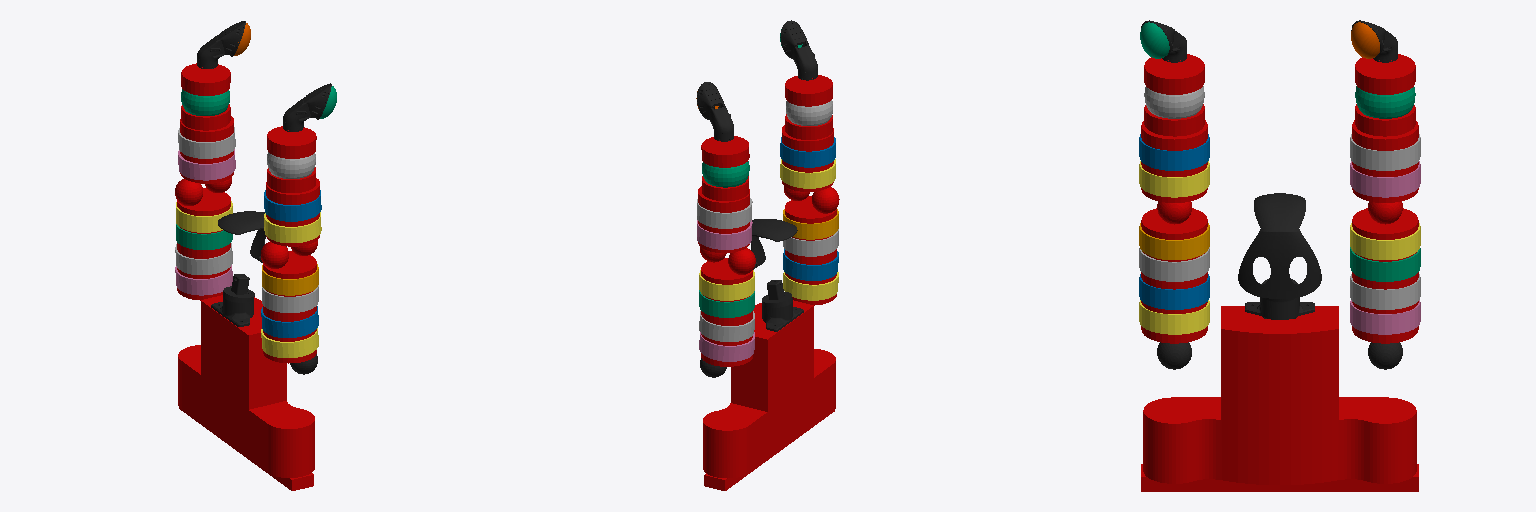
--- Render facts (derived) ---
Views: 3 orthographic renders of the robot side by side, from view 1: azimuth 30°, elevation 25°; view 2: azimuth 150°, elevation 25°; view 3: azimuth 270°, elevation 25°.
Model punyo with 44 links and 43 joints (14 revolute, 29 fixed), rooted at torso, posed all joints at 0 but 14 set to mid-range because 0 is outside their limits (j2s7s300_joint_1_l = 3.14, j2s7s300_joint_2_l = 3.14, j2s7s300_joint_3_l = 3.14, j2s7s300_joint_4_l = 3.14, j2s7s300_joint_5_l = 3.14, j2s7s300_joint_6_l = 3.14, +8 more).
Links seen in each view (by area): view 1: torso, head, floatie_1.0_on_link_6_l, floatie_1.0_on_link_6_r, j2s7s300_link_3_r, j2s7s300_link_3_l, paw_link_r, paw_link_l, j2s7s300_link_5_r, j2s7s300_link_5_l, floatie_2.0b_on_link_4_l, floatie_2.0b_on_link_4_r (+14 smaller); view 2: torso, head, floatie_1.0_on_link_6_l, floatie_1.0_on_link_6_r, j2s7s300_link_3_l, j2s7s300_link_3_r, paw_link_r, paw_link_l, j2s7s300_link_5_l, j2s7s300_link_5_r, floatie_2.0b_on_link_4_r, floatie_2.0b_on_link_3_l (+14 smaller); view 3: torso, head, floatie_1.0_on_link_6_r, floatie_1.0_on_link_6_l, j2s7s300_link_3_r, j2s7s300_link_3_l, j2s7s300_link_5_r, j2s7s300_link_5_l, floatie_2.0b_on_link_2_l, floatie_2.0b_on_link_2_r, floatie_2.0a_on_link_2_l, paw_link_l (+16 smaller).
Link boxes in pixels (x1=…): torso: x1=178, y1=295, x2=314, y2=490; head: x1=211, y1=211, x2=286, y2=326; floatie_1.0_on_link_6_l: x1=181, y1=63, x2=230, y2=115; floatie_1.0_on_link_6_r: x1=267, y1=126, x2=316, y2=178; j2s7s300_link_3_r: x1=263, y1=251, x2=316, y2=363; j2s7s300_link_3_l: x1=177, y1=188, x2=230, y2=300; paw_link_r: x1=283, y1=83, x2=336, y2=131; paw_link_l: x1=197, y1=21, x2=250, y2=68; j2s7s300_link_5_r: x1=266, y1=178, x2=319, y2=246; j2s7s300_link_5_l: x1=180, y1=116, x2=233, y2=183; floatie_2.0b_on_link_4_l: x1=178, y1=127, x2=235, y2=158; floatie_2.0b_on_link_4_r: x1=264, y1=190, x2=321, y2=221; torso: x1=703, y1=300, x2=835, y2=490; head: x1=751, y1=219, x2=803, y2=331; floatie_1.0_on_link_6_l: x1=701, y1=136, x2=749, y2=187; floatie_1.0_on_link_6_r: x1=785, y1=75, x2=832, y2=125; j2s7s300_link_3_l: x1=701, y1=258, x2=752, y2=366; j2s7s300_link_3_r: x1=785, y1=196, x2=836, y2=305; paw_link_r: x1=780, y1=20, x2=817, y2=80; paw_link_l: x1=696, y1=82, x2=733, y2=141; j2s7s300_link_5_l: x1=698, y1=186, x2=749, y2=252; j2s7s300_link_5_r: x1=782, y1=125, x2=833, y2=191; floatie_2.0b_on_link_4_r: x1=780, y1=137, x2=835, y2=167; floatie_2.0b_on_link_3_l: x1=699, y1=270, x2=754, y2=300; torso: x1=1141, y1=306, x2=1418, y2=491; head: x1=1238, y1=193, x2=1321, y2=319; floatie_1.0_on_link_6_r: x1=1144, y1=54, x2=1204, y2=118; floatie_1.0_on_link_6_l: x1=1355, y1=54, x2=1415, y2=118; j2s7s300_link_3_r: x1=1141, y1=208, x2=1207, y2=343; j2s7s300_link_3_l: x1=1352, y1=208, x2=1418, y2=343; j2s7s300_link_5_r: x1=1141, y1=120, x2=1207, y2=202; j2s7s300_link_5_l: x1=1352, y1=120, x2=1418, y2=202; floatie_2.0b_on_link_2_l: x1=1350, y1=274, x2=1420, y2=309; floatie_2.0b_on_link_2_r: x1=1139, y1=274, x2=1209, y2=309; floatie_2.0a_on_link_2_l: x1=1350, y1=300, x2=1420, y2=334; paw_link_l: x1=1351, y1=20, x2=1397, y2=62.
Size in the robot's own frame: 0.2367 by 0.72 by 1.37 metres.
Meshes: 18 distinct files referenced, 11 mesh visuals loaded (8 OBJ); not drawn: 27 (reference not matched to a file when rendering).

URDF robot description (punyo):
<?xml version="1.0"?>
<!--
This is a URDF file for the Punyo robot.
The robot has a torso and two arms. Each arm is covered by six floatie 2.0s and one floatie 1.0,
and the end-effector is a bubble paw. This is intended as
a high-fidelity model of the robot.

The continuous joints are limited by hard mechanical stops
at the limits below. The revolute joint are not mechanically
limited, thus using the manufacturer's limits.
The limits are duplicated from models/robot/gen_punyo_jaco_arm.py,
thus, they should be kept in sync.
-->
<robot xmlns:drake='http://drake.mit.edu' name="punyo">
  <link name="head">
    <visual name='neck_visual'>
      <origin rpy="0 0 -1.57" xyz="-0.06 0 0.47"/>
      <geometry>
        <mesh filename="meshes/A4_Punyo_Neck.obj"/>
      </geometry>
      <material>
        <color rgba="0.1788232 0.1788232 0.1788232 1"/>
      </material>
    </visual>
    <visual name='head_white_visual'>
      <origin rpy="0 0 -1.57" xyz="-0.06 0 0.47"/>
      <geometry>
        <mesh filename="meshes/A4_Punyo_Head_white.obj"/>
      </geometry>
      <material>
        <color rgba="0.812 0.039 0.039 1"/>
      </material>
    </visual>
    <visual name='head_black_visual'>
      <origin rpy="0 0 -1.57" xyz="-0.06 0 0.47"/>
      <geometry>
        <mesh filename="meshes/A4_Punyo_Head_black.obj"/>
      </geometry>
      <material>
        <color rgba="0.1788232 0.1788232 0.1788232 1"/>
      </material>
    </visual>
    <collision name='neck_collision'>
      <origin rpy="0 0 0" xyz="-0.03 0 0.49"/>
      <geometry>
        <cylinder length="0.05" radius="0.055"/>
      </geometry>
      <drake:proximity_properties>
        <drake:mesh_resolution_hint value="0.04"/>
        <drake:rigid_hydroelastic/>
        <drake:hunt_crossley_dissipation value="5"/>
        <drake:mu_static value="0.5"/>
      </drake:proximity_properties>
    </collision>
    <collision name='head_collision'>
      <origin rpy="0 0 0" xyz="0 0 0.655"/>
      <geometry>
        <sphere radius="0.16"/>
      </geometry>
      <drake:proximity_properties>
        <drake:mesh_resolution_hint value="0.04"/>
        <drake:rigid_hydroelastic/>
        <drake:hunt_crossley_dissipation value="5"/>
        <drake:mu_static value="0.5"/>
      </drake:proximity_properties>
    </collision>
  </link>
  <joint name="head_torso_link" type="fixed">
    <parent link="torso"/>
    <child link="head"/>
    <axis xyz="0 0 0"/>
    <limit effort="2000" lower="0" upper="0" velocity="1"/>
    <origin rpy="0 0 0" xyz="0 0 0"/>
    <dynamics damping="0.0" friction="0.0"/>
  </joint>
  <link name="torso">
    <visual name='chest_left_visual'>
      <geometry>
        <mesh filename="meshes/MA-081-PT-0003_chest_left.obj"/>
      </geometry>
      <material>
        <color rgba="0.812 0.039 0.039 1"/>
      </material>
    </visual>
    <visual name='chest_right_visual'>
      <geometry>
        <mesh filename="meshes/MA-081-PT-0003_chest_right.obj"/>
      </geometry>
      <material>
        <color rgba="0.812 0.039 0.039 1"/>
      </material>
    </visual>
    <visual name='chest_middle_visual'>
      <geometry>
        <mesh filename="meshes/MA-081-PT-0003_chest_middle.obj"/>
      </geometry>
      <material>
        <color rgba="0.812 0.039 0.039 1"/>
      </material>
    </visual>
    <!-- Add modularized collision geoms for the chest. -->
    <collision name='chest_left_collision'>
      <geometry>
        <mesh filename="meshes/MA-081-PT-0003_chest_left.obj"/>
      </geometry>
    </collision>
    <collision name='chest_middle_collision'>
      <geometry>
        <mesh filename="meshes/MA-081-PT-0003_chest_middle.vtk"/>
      </geometry>
      <drake:proximity_properties>
        <drake:mesh_resolution_hint value="0.04"/>
        <drake:rigid_hydroelastic/>
        <drake:hunt_crossley_dissipation value="5"/>
        <drake:mu_static value="0.5"/>
      </drake:proximity_properties>
    </collision>
    <collision name='chest_right_collision'>
      <geometry>
        <mesh filename="meshes/MA-081-PT-0003_chest_right.obj"/>
      </geometry>
    </collision>
  </link>
  <link name="j2s7s300_link_base_l">
    <visual>
      <geometry>
        <mesh filename="meshes/base.obj"/>
      </geometry>
      <material>
        <color rgba="0.1788232 0.1788232 0.1788232 1"/>
      </material>
    </visual>
    <collision>
      <geometry>
        <mesh filename="meshes/base.obj"/>
      </geometry>
    </collision>
    <inertial>
      <mass value="0.965"/>
      <origin rpy="0 0 0" xyz="0 0 0.1255"/>
      <inertia ixx="0.000951270861568" ixy="0" ixz="0" iyy="0.000951270861568" iyz="0" izz="0.000374272"/>
    </inertial>
  </link>
  <joint name="j2s7s300_joint_base_l" type="fixed">
    <parent link="torso"/>
    <child link="j2s7s300_link_base_l"/>
    <axis xyz="0 0 0"/>
    <limit effort="2000" lower="0" upper="0" velocity="1"/>
    <origin rpy="0 0 1.5707963267948966" xyz="0 0.27 0.114"/>
    <dynamics damping="0.0" friction="0.0"/>
  </joint>
  <link name="j2s7s300_link_1_l">
    <visual>
      <geometry>
        <mesh filename="meshes/shoulder.obj"/>
      </geometry>
      <material>
        <color rgba="0.1788232 0.1788232 0.1788232 1"/>
      </material>
    </visual>
    <visual>
      <geometry>
        <mesh filename="meshes/ring_big.obj"/>
      </geometry>
      <material>
        <color rgba="0.1788232 0.1788232 0.1788232 1"/>
      </material>
    </visual>
    <collision>
      <geometry>
        <mesh filename="meshes/shoulder.obj"/>
      </geometry>
    </collision>
    <inertial>
      <mass value="0.790"/>
      <origin xyz="0 -0.002 -0.0605"/>
      <inertia ixx="0.00152031725204" ixy="0" ixz="0" iyy="0.00152031725204" iyz="0" izz="0.00059816"/>
    </inertial>
  </link>
  <joint name="j2s7s300_joint_1_l" type="revolute">
    <parent link="j2s7s300_link_base_l"/>
    <child link="j2s7s300_link_1_l"/>
    <axis xyz="0 0 1"/>
    <limit effort="110" lower="0.18" upper="6.10" velocity="0.63"/>
    <origin rpy="0 3.14159265359 0" xyz="0 0 0.15675"/>
    <dynamics damping="18.0" friction="0.0"/>
  </joint>
  <transmission name="j2s7s300_joint_1_l_trans">
    <type>transmission_interface/SimpleTransmission</type>
    <joint name="j2s7s300_joint_1_l">
      <hardwareInterface>EffortJointInterface</hardwareInterface>
    </joint>
    <actuator name="j2s7s300_joint_1_l_actuator">
      <hardwareInterface>EffortJointInterface</hardwareInterface>
    </actuator>
  </transmission>
  <link name="sensor_cover_0_l">
    <visual>
      <geometry>
        <sphere radius="0.045"/>
      </geometry>
      <material>
        <color rgba="0.1788232 0.1788232 0.1788232 1"/>
      </material>
    </visual>
    <inertial>
      <mass value="0.190"/>
      <origin xyz="0 0 0"/>
      <inertia ixx="0.000154" ixy="0" ixz="0" iyy="0.000154" iyz="0" izz="0.000154"/>
    </inertial>
  </link>
  <joint name='sensor_cover_0_l_on_link_2_l' type='fixed'>
    <parent link='j2s7s300_link_2_l'/>
    <child link='sensor_cover_0_l'/>
    <origin xyz="0 -0.01 -0.05" rpy="0 0 0"/>
  </joint>
  <link name="j2s7s300_link_2_l">
    <visual>
      <geometry>
        <mesh filename="meshes/arm_half_1.obj"/>
      </geometry>
      <material>
        <color rgba="0.1788232 0.1788232 0.1788232 1"/>
      </material>
    </visual>
    <visual>
      <geometry>
        <mesh filename="meshes/ring_big.obj"/>
      </geometry>
      <material>
        <color rgba="0.1788232 0.1788232 0.1788232 1"/>
      </material>
    </visual>
    <collision>
      <geometry>
        <mesh filename="meshes/arm_half_1.obj"/>
      </geometry>
    </collision>
    <inertial>
      <mass value="0.876"/>
      <origin xyz="0 -0.106 0"/>
      <inertia ixx="0.00247073761701" ixy="0" ixz="0" iyy="0.000380115" iyz="0" izz="0.00247073761701"/>
    </inertial>
  </link>
  <joint name='j2s7s300_link_2_l_floatie_2.0a_on_link_2_l' type='fixed'>
    <parent link='j2s7s300_link_2_l'/>
    <child link='floatie_2.0a_on_link_2_l'/>
    <origin xyz="0 -0.10 0" rpy="1.507 0 0"/>
  </joint>
  <link name="floatie_2.0a_on_link_2_l">
    <!-- Add two floatie 2.0s on Left Link 2. -->
    <inertial>
      <mass value="0.065"/>
    </inertial>
    <visual name='floatie_2.0a_on_link_2_l_visual'>
      <origin xyz="0 0 0" rpy="0 0 0"/>
      <geometry>
        <cylinder length="0.055" radius="0.09"/>
      </geometry>
    </visual>
    <collision name='floatie_2.0a_on_link_2_l_collision'>
      <origin xyz="0 0 0" rpy="0 0 0"/>
      <geometry>
        <cylinder length="0.055" radius="0.09"/>
      </geometry>
      <drake:proximity_properties>
        <drake:mesh_resolution_hint value="0.04"/>
        <drake:compliant_hydroelastic/>
        <drake:hydroelastic_modulus value="1e6"/>
        <drake:hunt_crossley_dissipation value="5"/>
        <!-- Arbitrary guess at bubble friction properties -->
        <drake:mu_static value="0.8"/>
      </drake:proximity_properties>
    </collision>
  </link>
  <joint name='j2s7s300_link_2_l_floatie_2.0b_on_link_2_l' type='fixed'>
    <parent link='j2s7s300_link_2_l'/>
    <child link='floatie_2.0b_on_link_2_l'/>
    <origin xyz="0 -0.17 0" rpy="1.507 0 0"/>
  </joint>
  <link name="floatie_2.0b_on_link_2_l">
    <inertial>
      <mass value="0.065"/>
    </inertial>
    <visual name='floatie_2.0b_on_link_2_l_visual'>
      <origin xyz="0 0 0" rpy="0 0 0"/>
      <geometry>
        <cylinder length="0.055" radius="0.09"/>
      </geometry>
    </visual>
    <collision name='floatie_2.0b_on_link_2_l_collision'>
      <origin xyz="0 0 0" rpy="0 0 0"/>
      <geometry>
        <cylinder length="0.055" radius="0.09"/>
      </geometry>
      <drake:proximity_properties>
        <drake:mesh_resolution_hint value="0.04"/>
        <drake:compliant_hydroelastic/>
        <drake:hydroelastic_modulus value="1e6"/>
        <drake:hunt_crossley_dissipation value="5"/>
        <!-- Arbitrary guess at bubble friction properties -->
        <drake:mu_static value="0.8"/>
      </drake:proximity_properties>
    </collision>
  </link>
  <joint name="j2s7s300_joint_2_l" type="revolute">
    <parent link="j2s7s300_link_1_l"/>
    <child link="j2s7s300_link_2_l"/>
    <axis xyz="0 0 1"/>
    <limit effort="100" lower="0.523598775598" upper="5.75958653158" velocity="0.63"/>
    <origin rpy="-1.57079632679 0 3.14159265359" xyz="0 0.0016 -0.11875"/>
    <dynamics damping="18.0" friction="0.0"/>
  </joint>
  <transmission name="j2s7s300_joint_2_l_trans">
    <type>transmission_interface/SimpleTransmission</type>
    <joint name="j2s7s300_joint_2_l">
      <hardwareInterface>EffortJointInterface</hardwareInterface>
    </joint>
    <actuator name="j2s7s300_joint_2_l_actuator">
      <hardwareInterface>EffortJointInterface</hardwareInterface>
    </actuator>
  </transmission>
  <link name="sensor_cover_1_l">
    <visual>
      <geometry>
        <sphere radius="0.045"/>
      </geometry>
      <material>
        <color rgba="0.812 0.039 0.039 1"/>
      </material>
    </visual>
    <inertial>
      <mass value="0.190"/>
      <origin xyz="0 0 0"/>
      <inertia ixx="0.000154" ixy="0" ixz="0" iyy="0.000154" iyz="0" izz="0.000154"/>
    </inertial>
  </link>
  <joint name='sensor_cover_1_l_on_link_3_l' type='fixed'>
    <parent link='j2s7s300_link_3_l'/>
    <child link='sensor_cover_1_l'/>
    <origin xyz="0 0.055 -0.195" rpy="0 0 0"/>
  </joint>
  <link name="j2s7s300_link_3_l">
    <visual>
      <geometry>
        <cylinder length="0.31" radius="0.085"/>
      </geometry>
      <material>
        <color rgba="0.812 0.039 0.039 1"/>
      </material>
    </visual>

    <visual>
      <geometry>
        <mesh filename="meshes/arm_half_2.obj"/>
      </geometry>
      <material>
        <color rgba="0.812 0.039 0.039 1"/>
      </material>
    </visual>
    <visual>
      <geometry>
        <mesh filename="meshes/ring_big.obj"/>
      </geometry>
      <material>
        <color rgba="0.627451 0.627451 0.627451 1"/>
      </material>
    </visual>
    <collision>
      <geometry>
        <mesh filename="meshes/arm_half_2.obj"/>
      </geometry>
    </collision>
    <inertial>
      <mass value="0.876"/>
      <origin xyz="0 0 -0.106"/>
      <inertia ixx="0.00247073761701" ixy="0" ixz="0" iyy="0.00247073761701" iyz="0" izz="0.000380115"/>
    </inertial>
  </link>
  <joint name='j2s7s300_link_3_l_floatie_2.0a_on_link_3_l' type='fixed'>
    <parent link='j2s7s300_link_3_l'/>
    <child link='floatie_2.0a_on_link_3_l'/>
    <origin xyz="0 0 -0.049" rpy="0 0 0"/>
  </joint>
  <link name="floatie_2.0a_on_link_3_l">
    <!-- Add two floatie 2.0s on Left Link 3. -->
    <inertial>
      <mass value="0.065"/>
    </inertial>
    <visual name='floatie_2.0a_on_link_3_l_visual'>
      <origin xyz="0 0 0" rpy="0 0 0"/>
      <geometry>
        <cylinder length="0.055" radius="0.09"/>
      </geometry>
    </visual>
    <collision name='floatie_2.0a_on_link_3_l_collision'>
      <origin xyz="0 0 0" rpy="0 0 0"/>
      <geometry>
        <cylinder length="0.055" radius="0.09"/>
      </geometry>
      <drake:proximity_properties>
        <drake:mesh_resolution_hint value="0.04"/>
        <drake:compliant_hydroelastic/>
        <drake:hydroelastic_modulus value="1e6"/>
        <drake:hunt_crossley_dissipation value="5"/>
        <!-- Arbitrary guess at bubble friction properties -->
        <drake:mu_static value="0.8"/>
      </drake:proximity_properties>
    </collision>
  </link>
  <joint name='j2s7s300_link_3_l_floatie_2.0b_on_link_3_l' type='fixed'>
    <parent link='j2s7s300_link_3_l'/>
    <child link='floatie_2.0b_on_link_3_l'/>
    <origin xyz="0 0 -0.11" rpy="0 0 0"/>
  </joint>
  <link name="floatie_2.0b_on_link_3_l">
    <inertial>
      <mass value="0.065"/>
    </inertial>
    <visual name='floatie_2.0b_on_link_3_l_visual'>
      <origin xyz="0 0 0" rpy="0 0 0"/>
      <geometry>
        <cylinder length="0.055" radius="0.09"/>
      </geometry>
    </visual>
    <collision name='floatie_2.0b_on_link_3_l_collision'>
      <origin xyz="0 0 0" rpy="0 0 0"/>
      <geometry>
        <cylinder length="0.055" radius="0.09"/>
      </geometry>
      <drake:proximity_properties>
        <drake:mesh_resolution_hint value="0.04"/>
        <drake:compliant_hydroelastic/>
        <drake:hydroelastic_modulus value="1e6"/>
        <drake:hunt_crossley_dissipation value="5"/>
        <!-- Arbitrary guess at bubble friction properties -->
        <drake:mu_static value="0.8"/>
      </drake:proximity_properties>
    </collision>
  </link>
  <joint name="j2s7s300_joint_3_l" type="revolute">
    <parent link="j2s7s300_link_2_l"/>
    <child link="j2s7s300_link_3_l"/>
    <axis xyz="0 0 1"/>
    <limit effort="100" lower="0.18" upper="6.10" velocity="0.63"/>
    <origin rpy="-1.57079632679 0 0" xyz="0 -0.205 0"/>
    <dynamics damping="18.0" friction="0.0"/>
  </joint>
  <transmission name="j2s7s300_joint_3_l_trans">
    <type>transmission_interface/SimpleTransmission</type>
    <joint name="j2s7s300_joint_3_l">
      <hardwareInterface>EffortJointInterface</hardwareInterface>
    </joint>
    <actuator name="j2s7s300_joint_3_l_actuator">
      <hardwareInterface>EffortJointInterface</hardwareInterface>
    </actuator>
  </transmission>
  <link name="sensor_cover_2_l">
    <visual>
      <geometry>
        <sphere radius="0.045"/>
      </geometry>
      <material>
        <color rgba="0.812 0.039 0.039 1"/>
      </material>
    </visual>
    <inertial>
      <mass value="0.190"/>
      <origin xyz="0 0 0"/>
      <inertia ixx="0.000154" ixy="0" ixz="0" iyy="0.000154" iyz="0" izz="0.000154"/>
    </inertial>
  </link>
  <joint name='sensor_cover_2_l_on_link_4_l' type='fixed'>
    <parent link='j2s7s300_link_4_l'/>
    <child link='sensor_cover_2_l'/>
    <origin xyz="0 0.01 -0.05" rpy="0 0 0"/>
  </joint>
  <link name="j2s7s300_link_4_l">
    <visual>
      <geometry>
        <mesh filename="meshes/forearm.obj"/>
      </geometry>
      <material>
        <color rgba="0.812 0.039 0.039 1"/>
      </material>
    </visual>
    <visual>
      <geometry>
        <mesh filename="meshes/ring_small.obj"/>
      </geometry>
      <material>
        <color rgba="0.627451 0.627451 0.627451 1"/>
      </material>
    </visual>
    <collision>
      <geometry>
        <mesh filename="meshes/forearm.obj"/>
      </geometry>
    </collision>
    <inertial>
      <mass value="0.625"/>
      <origin xyz="0 0.119 -0.0086"/>
      <inertia ixx="0.00142022431908" ixy="0" ixz="0" iyy="0.000304335" iyz="0" izz="0.00142022431908"/>
    </inertial>
  </link>
  <joint name='j2s7s300_link_4_l_floatie_2.0a_on_link_4_l' type='fixed'>
    <parent link='j2s7s300_link_4_l'/>
    <child link='floatie_2.0a_on_link_4_l'/>
    <origin xyz="0 0.085 -0.01" rpy="1.6 0 0"/>
  </joint>
  <link name="floatie_2.0a_on_link_4_l">
    <!-- Add two floatie 2.0s on Left Link 4. -->
    <inertial>
      <mass value="0.065"/>
    </inertial>
    <visual name='floatie_2.0a_on_link_4_l_visual'>
      <origin xyz="0 0 0" rpy="0 0 0"/>
      <geometry>
        <cylinder length="0.055" radius="0.09"/>
      </geometry>
    </visual>
    <collision name='floatie_2.0a_on_link_4_l_collision'>
      <origin xyz="0 0 0" rpy="0 0 0"/>
      <geometry>
        <cylinder length="0.055" radius="0.09"/>
      </geometry>
      <drake:proximity_properties>
        <drake:mesh_resolution_hint value="0.04"/>
        <drake:compliant_hydroelastic/>
        <drake:hydroelastic_modulus value="1e6"/>
        <drake:hunt_crossley_dissipation value="5"/>
        <!-- Arbitrary guess at bubble friction properties -->
        <drake:mu_static value="0.8"/>
      </drake:proximity_properties>
    </collision>
  </link>
  <joint name='j2s7s300_link_4_l_floatie_2.0b_on_link_4_l' type='fixed'>
    <parent link='j2s7s300_link_4_l'/>
    <child link='floatie_2.0b_on_link_4_l'/>
    <origin xyz="0 0.16 -0.01" rpy="1.6 0 0"/>
  </joint>
  <link name="floatie_2.0b_on_link_4_l">
    <inertial>
      <mass value="0.065"/>
    </inertial>
    <visual name='floatie_2.0b_on_link_4_l_visual'>
      <origin xyz="0 0 0" rpy="0 0 0"/>
      <geometry>
        <cylinder length="0.055" radius="0.09"/>
      </geometry>
    </visual>
    <collision name='floatie_2.0b_on_link_4_l_collision'>
      <origin xyz="0 0 0" rpy="0 0 0"/>
      <geometry>
        <cylinder length="0.055" radius="0.09"/>
      </geometry>
      <drake:proximity_properties>
        <drake:mesh_resolution_hint value="0.04"/>
        <drake:compliant_hydroelastic/>
        <drake:hydroelastic_modulus value="1e6"/>
        <drake:hunt_crossley_dissipation value="5"/>
        <!-- Arbitrary guess at bubble friction properties -->
        <drake:mu_static value="0.8"/>
      </drake:proximity_properties>
    </collision>
  </link>
  <joint name="j2s7s300_joint_4_l" type="revolute">
    <parent link="j2s7s300_link_3_l"/>
    <child link="j2s7s300_link_4_l"/>
    <axis xyz="0 0 1"/>
    <limit effort="100" lower="0.523598775598" upper="5.75958653158" velocity="0.63"/>
    <origin rpy="1.57079632679 0 3.14159265359" xyz="0 0 -0.205"/>
    <dynamics damping="18.0" friction="0.0"/>
  </joint>
  <transmission name="j2s7s300_joint_4_l_trans">
    <type>transmission_interface/SimpleTransmission</type>
    <joint name="j2s7s300_joint_4_l">
      <hardwareInterface>EffortJointInterface</hardwareInterface>
    </joint>
    <actuator name="j2s7s300_joint_4_l_actuator">
      <hardwareInterface>EffortJointInterface</hardwareInterface>
    </actuator>
  </transmission>
  <link name="j2s7s300_link_5_l">
    <visual>
      <origin xyz="0 0 0.075"/>
      <geometry>
        <cylinder length="0.18" radius="0.085"/>
      </geometry>
      <material>
        <color rgba="0.812 0.039 0.039 1"/>
      </material>
    </visual>
    <visual>
      <geometry>
        <mesh filename="meshes/wrist_spherical_1.obj"/>
      </geometry>
      <material>
        <color rgba="0.812 0.039 0.039 1"/>
      </material>
    </visual>
    <visual>
      <geometry>
        <mesh filename="meshes/ring_small.obj"/>
      </geometry>
      <material>
        <color rgba="0.627451 0.627451 0.627451 1"/>
      </material>
    </visual>
    <collision>
      <geometry>
        <mesh filename="meshes/wrist_spherical_1.obj"/>
      </geometry>
    </collision>
    <inertial>
      <mass value="0.485"/>
      <origin xyz="0 0.0028848942 -0.063"/>
      <inertia ixx="0.0004321316048" ixy="0" ixz="0" iyy="0.0004321316048" iyz="0" izz="9.26e-05"/>
    </inertial>
  </link>
  <joint name="j2s7s300_joint_5_l" type="revolute">
    <parent link="j2s7s300_link_4_l"/>
    <child link="j2s7s300_link_5_l"/>
    <axis xyz="0 0 1"/>
    <limit effort="80" lower="0.18" upper="6.10" velocity="0.85"/>
    <origin rpy="-1.57079632679 0 3.14159265359" xyz="0 0.2073 -0.0114"/>
    <dynamics damping="3.0" friction="0.0"/>
  </joint>
  <transmission name="j2s7s300_joint_5_l_trans">
    <type>transmission_interface/SimpleTransmission</type>
    <joint name="j2s7s300_joint_5_l">
      <hardwareInterface>EffortJointInterface</hardwareInterface>
    </joint>
    <actuator name="j2s7s300_joint_5_l_actuator">
      <hardwareInterface>EffortJointInterface</hardwareInterface>
    </actuator>
  </transmission>
  <link name="j2s7s300_link_6_l">
    <visual>
      <geometry>
        <mesh filename="meshes/wrist_spherical_2.obj"/>
      </geometry>
      <material>
        <color rgba="0.812 0.039 0.039 1"/>
      </material>
    </visual>
    <visual>
      <geometry>
        <mesh filename="meshes/ring_small.obj"/>
      </geometry>
      <material>
        <color rgba="0.627451 0.627451 0.627451 1"/>
      </material>
    </visual>
    <collision>
      <geometry>
        <mesh filename="meshes/wrist_spherical_2.obj"/>
      </geometry>
    </collision>
    <inertial>
      <mass value="0.486"/>
      <origin xyz="0 0.063 -0.0028562765"/>
      <inertia ixx="0.0004321316048" ixy="0" ixz="0" iyy="9.26e-05" iyz="0" izz="0.0004321316048"/>
    </inertial>
  </link>
  <joint name="j2s7s300_joint_floatie_1.0_partA_l" type="fixed">
    <parent link="j2s7s300_link_6_l"/>
    <child link="floatie_1.0_on_link_6_l"/>
    <origin rpy="1.55 0 0" xyz="0 0.055 0.005"/>
  </joint>
  <link name="floatie_1.0_on_link_6_l">
    <inertial>
      <mass value="0.025"/>
    </inertial>
    <visual name='floatie_1.0_on_link_6_l_visual_1'>
      <origin rpy="0 0 0" xyz="0 0 0"/>
      <geometry>
        <cylinder length="0.045" radius="0.0775"/>
      </geometry>
      <material>
        <color rgba="0.812 0.039 0.039 1"/>
      </material>
    </visual>
    <collision name='floatie_1.0_on_link_6_l_collision_1'>
      <origin rpy="0 0 0" xyz="0 0 0"/>
      <geometry>
        <cylinder length="0.045" radius="0.0775"/>
      </geometry>
      <drake:proximity_properties>
        <drake:mesh_resolution_hint value="0.04"/>
        <drake:compliant_hydroelastic/>
        <drake:hydroelastic_modulus value="1e6"/>
        <drake:hunt_crossley_dissipation value="5"/>
        <!-- Arbitrary guess at bubble friction properties -->
        <drake:mu_static value="0.8"/>
      </drake:proximity_properties>
    </collision>
    <visual name='floatie_1.0_on_link_6_l_visual_2'>
      <origin rpy="0 0 0" xyz="0 0 0.06"/>
      <geometry>
        <sphere radius="0.0775"/>
      </geometry>
    </visual>
    <collision name='floatie_1.0_on_link_6_l_collision_2'>
      <origin rpy="0 0 0" xyz="0 0 0.045"/>
      <geometry>
        <sphere radius="0.0775"/>
      </geometry>
      <drake:proximity_properties>
        <drake:mesh_resolution_hint value="0.04"/>
        <drake:compliant_hydroelastic/>
        <drake:hydroelastic_modulus value="1e6"/>
        <drake:hunt_crossley_dissipation value="5"/>
        <!-- Arbitrary guess at bubble friction properties -->
        <drake:mu_static value="0.8"/>
      </drake:proximity_properties>
    </collision>
  </link>
  <joint name="j2s7s300_joint_floatie_1.0_partB_l" type="fixed">
    <parent link="j2s7s300_link_5_l"/>
    <child link="floatie_1.0_on_link_5_l"/>
    <origin rpy="0 0 0" xyz="0 0.005 -0.04"/>
  </joint>
 <link name="floatie_1.0_on_link_5_l">
    <inertial>
      <mass value="0.025"/>
    </inertial>
    <visual name='floatie_1.0_on_link_5_l_visual'>
      <origin rpy="0 0 0" xyz="0 0 0"/>
      <geometry>
        <cylinder length="0.045" radius="0.0775"/>
      </geometry>
      <material>
        <color rgba="0.812 0.039 0.039 1"/>
      </material>
    </visual>
    <collision name='floatie_1.0_on_link_5_l_collision'>
      <origin rpy="0 0 0" xyz="0 0 0"/>
      <geometry>
        <cylinder length="0.045" radius="0.0775"/>
      </geometry>
      <drake:proximity_properties>
        <drake:mesh_resolution_hint value="0.04"/>
        <drake:compliant_hydroelastic/>
        <drake:hydroelastic_modulus value="1e6"/>
        <drake:hunt_crossley_dissipation value="5"/>
        <!-- Arbitrary guess at bubble friction properties -->
        <drake:mu_static value="0.8"/>
      </drake:proximity_properties>
    </collision>
  </link>
  <joint name="j2s7s300_joint_6_l" type="revolute">
    <parent link="j2s7s300_link_5_l"/>
    <child link="j2s7s300_link_6_l"/>
    <axis xyz="0 0 1"/>
    <limit effort="80" lower="0.523598775598" upper="5.75958653158" velocity="0.85"/>
    <origin rpy="1.57079632679 0 3.14159265359" xyz="0 0 -0.10375"/>
    <dynamics damping="3.0" friction="0.0"/>
  </joint>
  <transmission name="j2s7s300_joint_6_l_trans">
    <type>transmission_interface/SimpleTransmission</type>
    <joint name="j2s7s300_joint_6_l">
      <hardwareInterface>EffortJointInterface</hardwareInterface>
    </joint>
    <actuator name="j2s7s300_joint_6_l_actuator">
      <hardwareInterface>EffortJointInterface</hardwareInterface>
    </actuator>
  </transmission>
  <link name="j2s7s300_link_7_l">
    <inertial>
      <mass value="0.01"/>
      <origin xyz="0 0 0"/>
      <inertia ixx="0.00001" ixy="0" ixz="0" iyy="0.00001" iyz="0" izz="0.00001"/>
    </inertial>
  </link>
  <joint name="j2s7s300_joint_7_l" type="revolute">
    <parent link="j2s7s300_link_6_l"/>
    <child link="j2s7s300_link_7_l"/>
    <axis xyz="0 0 1"/>
    <limit effort="80" lower="0.18" upper="6.10" velocity="0.85"/>
    <origin rpy="-1.57079632679 0 3.14159265359" xyz="0 0.10375 0"/>
    <dynamics damping="3.0" friction="0.0"/>
  </joint>
  <transmission name="j2s7s300_joint_7_l_trans">
    <type>transmission_interface/SimpleTransmission</type>
    <joint name="j2s7s300_joint_7_l">
      <hardwareInterface>EffortJointInterface</hardwareInterface>
    </joint>
    <actuator name="j2s7s300_joint_7_l_actuator">
      <hardwareInterface>EffortJointInterface</hardwareInterface>
    </actuator>
  </transmission>
  <link name="paw_link_l">
    <!-- Add the paw mount only for visual. -->
    <visual>
      <geometry>
        <mesh filename="meshes/MA-027-AY-0006_mount.obj"/>
      </geometry>
      <material>
        <color rgba="0.1788232 0.1788232 0.1788232 1"/>
      </material>
    </visual>
    <!-- Add the paw frame for visual and collision. -->
    <visual>
      <geometry>
        <mesh filename="meshes/MA-027-AY-0006_pawframe.obj"/>
      </geometry>
      <material>
        <color rgba="0.1788232 0.1788232 0.1788232 1"/>
      </material>
    </visual>
    <collision>
      <origin xyz="-0.03 0.06 0" rpy="1.57 0 0.9"/>
      <geometry>
        <cylinder length="0.055" radius="0.025"/>
      </geometry>
    </collision>
    <collision>
      <geometry>
        <mesh filename="meshes/MA-027-AY-0006_bubble35mm_coarse_250faces.vtk"/>
      </geometry>
      <drake:proximity_properties>
        <drake:mesh_resolution_hint value="0.04"/>
        <drake:compliant_hydroelastic/>
        <drake:hydroelastic_modulus value="1e6"/>
        <drake:hunt_crossley_dissipation value="5"/>
        <!-- Arbitrary guess at bubble friction properties -->
        <drake:mu_static value="0.9"/>
        <drake:mu_dynamic value="0.9"/>
      </drake:proximity_properties>
    </collision>
    <!-- Add the bubble mesh for visual and collision. -->
    <visual>
      <geometry>
        <mesh filename="meshes/MA-027-AY-0006_bubble35mm.obj"/>
      </geometry>
    </visual>
    <!-- Inertial values are approximate and calculated for a
         cylinder of radius 35mm, height 110mm and mass 270gms -->
    <inertial>
      <mass value="0.27"/>
      <origin xyz="-0.05 0.07 0" rpy="1.5707 0 0.85"/>
      <inertia ixx="0.000355" ixy="0" ixz="0" iyy="0.000355" iyz="0" izz="0.000165"/>
    </inertial>
  </link>
  <joint name='paw_joint_l' type='fixed'>
    <parent link='j2s7s300_link_7_l'/>
    <child link='paw_link_l'/>
    <origin rpy="-1.5705 0 2.0944" xyz="0 0 0"/>
  </joint>
  <link name="bubble_center_l">
    <inertial>
      <mass value="0.001"/>
      <origin xyz="0 0 0"/>
      <inertia ixx="0.000001" ixy="0" ixz="0" iyy="0.000001" iyz="0" izz="0.000001"/>
    </inertial>
  </link>
  <joint name='dummy_joint_l' type='fixed'>
    <parent link='paw_link_l'/>
    <child link='bubble_center_l'/>
    <origin rpy="0 0 0" xyz="-0.1295 0.0831 0.0017"/>
  </joint>

  <link name="j2s7s300_link_base_r">
    <visual>
      <geometry>
        <mesh filename="meshes/base.obj"/>
      </geometry>
      <material>
        <color rgba="0.1788232 0.1788232 0.1788232 1"/>
      </material>
    </visual>
    <collision>
      <geometry>
        <mesh filename="meshes/base.obj"/>
      </geometry>
    </collision>
    <inertial>
      <mass value="0.965"/>
      <origin rpy="0 0 0" xyz="0.0 0.0 0.1255"/>
      <inertia ixx="0.000951270861568" ixy="0" ixz="0" iyy="0.000951270861568" iyz="0" izz="0.000374272"/>
    </inertial>
  </link>

  <joint name="j2s7s300_joint_base_r" type="fixed">
    <parent link="torso"/>
    <child link="j2s7s300_link_base_r"/>
    <axis xyz="0 0 0"/>
    <limit effort="2000" lower="0" upper="0" velocity="1"/>
    <origin rpy="0 0 1.5707963267948966" xyz="0 -0.27 0.114"/>
    <dynamics damping="0.0" friction="0.0"/>
  </joint>
  <link name="j2s7s300_link_1_r">
    <visual>
      <geometry>
        <mesh filename="meshes/shoulder.obj"/>
      </geometry>
      <material>
        <color rgba="0.1788232 0.1788232 0.1788232 1"/>
      </material>
    </visual>
    <visual>
      <geometry>
        <mesh filename="meshes/ring_big.obj"/>
      </geometry>
      <material>
        <color rgba="0.1788232 0.1788232 0.1788232 1"/>
      </material>
    </visual>
    <collision>
      <geometry>
        <mesh filename="meshes/shoulder.obj"/>
      </geometry>
    </collision>
    <inertial>
      <mass value="0.790"/>
      <origin xyz="0 -0.002 -0.0605"/>
      <inertia ixx="0.00152031725204" ixy="0" ixz="0" iyy="0.00152031725204" iyz="0" izz="0.00059816"/>
    </inertial>
  </link>
  <joint name="j2s7s300_joint_1_r" type="revolute">
    <parent link="j2s7s300_link_base_r"/>
    <child link="j2s7s300_link_1_r"/>
    <axis xyz="0 0 1"/>
    <limit effort="110" lower="0.18" upper="6.10" velocity="0.63"/>
    <origin rpy="0 3.14159265359 0" xyz="0 0 0.15675"/>
    <dynamics damping="18.0" friction="0.0"/>
  </joint>
  <transmission name="j2s7s300_joint_1_r_trans">
    <type>transmission_interface/SimpleTransmission</type>
    <joint name="j2s7s300_joint_1_r">
      <hardwareInterface>EffortJointInterface</hardwareInterface>
    </joint>
    <actuator name="j2s7s300_joint_1_r_actuator">
      <hardwareInterface>EffortJointInterface</hardwareInterface>
    </actuator>
  </transmission>
  <link name="sensor_cover_0_r">
    <visual>
      <geometry>
        <sphere radius="0.045"/>
      </geometry>
      <material>
        <color rgba="0.1788232 0.1788232 0.1788232 1"/>
      </material>
    </visual>
    <inertial>
      <mass value="0.190"/>
      <origin xyz="0 0 0"/>
      <inertia ixx="0.000154" ixy="0" ixz="0" iyy="0.000154" iyz="0" izz="0.000154"/>
    </inertial>
  </link>
  <joint name='sensor_cover_0_r_on_link_2_r' type='fixed'>
    <parent link='j2s7s300_link_2_r'/>
    <child link='sensor_cover_0_r'/>
    <origin xyz="0 -0.01 -0.05" rpy="0 0 0"/>
  </joint>
  <link name="j2s7s300_link_2_r">
    <visual>
      <geometry>
        <mesh filename="meshes/arm_half_1.obj"/>
      </geometry>
      <material>
        <color rgba="0.1788232 0.1788232 0.1788232 1"/>
      </material>
    </visual>
    <visual>
      <geometry>
        <mesh filename="meshes/ring_big.obj"/>
      </geometry>
      <material>
        <color rgba="0.1788232 0.1788232 0.1788232 1"/>
      </material>
    </visual>
    <collision>
      <geometry>
        <mesh filename="meshes/arm_half_1.obj"/>
      </geometry>
    </collision>
    <inertial>
      <mass value="0.876"/>
      <origin xyz="0 -0.106 0"/>
      <inertia ixx="0.00247073761701" ixy="0" ixz="0" iyy="0.000380115" iyz="0" izz="0.00247073761701"/>
    </inertial>
  </link>
  <joint name='j2s7s300_link_2_r_floatie_2.0a_on_link_2_r' type='fixed'>
    <parent link='j2s7s300_link_2_r'/>
    <child link='floatie_2.0a_on_link_2_r'/>
    <origin xyz="0 -0.10 0" rpy="1.507 0 0"/>
  </joint>
  <link name='floatie_2.0a_on_link_2_r'>
    <!-- Add two floatie 2.0s on Right Link 2. -->
    <inertial>
      <mass value="0.065"/>
    </inertial>
    <visual name='floatie_2.0a_on_link_2_r_visual'>
      <origin xyz="0 0 0" rpy="0 0 0"/>
      <geometry>
        <cylinder length="0.055" radius="0.09"/>
      </geometry>
    </visual>
    <collision name='floatie_2.0a_on_link_2_r_collision'>
      <origin xyz="0 0 0" rpy="0 0 0"/>
      <geometry>
        <cylinder length="0.055" radius="0.09"/>
      </geometry>
      <drake:proximity_properties>
        <drake:mesh_resolution_hint value="0.04"/>
        <drake:compliant_hydroelastic/>
        <drake:hydroelastic_modulus value="1e6"/>
        <drake:hunt_crossley_dissipation value="5"/>
        <!-- Arbitrary guess at bubble friction properties -->
        <drake:mu_static value="0.8"/>
      </drake:proximity_properties>
    </collision>
  </link>
  <joint name='j2s7s300_link_2_r_floatie_2.0b_on_link_2_r' type='fixed'>
    <parent link='j2s7s300_link_2_r'/>
    <child link='floatie_2.0b_on_link_2_r'/>
    <origin xyz="0 -0.17 0" rpy="1.507 0 0"/>
  </joint>
  <link name='floatie_2.0b_on_link_2_r'>
    <inertial>
      <mass value="0.065"/>
    </inertial>
    <visual name='floatie_2.0b_on_link_2_r_visual'>
      <origin xyz="0 0 0" rpy="0 0 0"/>
      <geometry>
        <cylinder length="0.055" radius="0.09"/>
      </geometry>
    </visual>
    <collision name='floatie_2.0b_on_link_2_r_collision'>
      <origin xyz="0 0 0" rpy="0 0 0"/>
      <geometry>
        <cylinder length="0.055" radius="0.09"/>
      </geometry>
      <drake:proximity_properties>
        <drake:mesh_resolution_hint value="0.04"/>
        <drake:compliant_hydroelastic/>
        <drake:hydroelastic_modulus value="1e6"/>
        <drake:hunt_crossley_dissipation value="5"/>
        <!-- Arbitrary guess at bubble friction properties -->
        <drake:mu_static value="0.8"/>
      </drake:proximity_properties>
    </collision>
  </link>
  <joint name="j2s7s300_joint_2_r" type="revolute">
    <parent link="j2s7s300_link_1_r"/>
    <child link="j2s7s300_link_2_r"/>
    <axis xyz="0 0 1"/>
    <limit effort="100" lower="0.523598775598" upper="5.75958653158" velocity="0.63"/>
    <origin rpy="-1.57079632679 0 3.14159265359" xyz="0 0.0016 -0.11875"/>
    <dynamics damping="18.0" friction="0.0"/>
  </joint>
  <transmission name="j2s7s300_joint_2_r_trans">
    <type>transmission_interface/SimpleTransmission</type>
    <joint name="j2s7s300_joint_2_r">
      <hardwareInterface>EffortJointInterface</hardwareInterface>
    </joint>
    <actuator name="j2s7s300_joint_2_r_actuator">
      <hardwareInterface>EffortJointInterface</hardwareInterface>
    </actuator>
  </transmission>
  <link name="sensor_cover_1_r">
    <visual>
      <geometry>
        <sphere radius="0.045"/>
      </geometry>
      <material>
        <color rgba="0.812 0.039 0.039 1"/>
      </material>
    </visual>
    <inertial>
      <mass value="0.190"/>
      <origin xyz="0 0 0"/>
      <inertia ixx="0.000154" ixy="0" ixz="0" iyy="0.000154" iyz="0" izz="0.000154"/>
    </inertial>
  </link>
  <joint name='sensor_cover_1_r_on_link_3_r' type='fixed'>
    <parent link='j2s7s300_link_3_r'/>
    <child link='sensor_cover_1_r'/>
    <origin xyz="0 0.055 -0.195" rpy="0 0 0"/>
  </joint>
  <link name="j2s7s300_link_3_r">
    <visual>
      <geometry>
        <cylinder length="0.31" radius="0.085"/>
      </geometry>
      <material>
        <color rgba="0.812 0.039 0.039 1"/>
      </material>
    </visual>
    <visual>
      <geometry>
        <mesh filename="meshes/arm_half_2.obj"/>
      </geometry>
      <material>
        <color rgba="0.812 0.039 0.039 1"/>
      </material>
    </visual>
    <visual>
      <geometry>
        <mesh filename="meshes/ring_big.obj"/>
      </geometry>
      <material>
        <color rgba="0.627451 0.627451 0.627451 1"/>
      </material>
    </visual>
    <collision>
      <geometry>
        <mesh filename="meshes/arm_half_2.obj"/>
      </geometry>
    </collision>
    <inertial>
      <mass value="0.876"/>
      <origin xyz="0 0 -0.106"/>
      <inertia ixx="0.00247073761701" ixy="0" ixz="0" iyy="0.00247073761701" iyz="0" izz="0.000380115"/>
    </inertial>
  </link>
  <joint name='j2s7s300_link_3_r_floatie_2.0a_on_link_3_r' type='fixed'>
    <parent link='j2s7s300_link_3_r'/>
    <child link='floatie_2.0a_on_link_3_r'/>
    <origin xyz="0 0 -0.049" rpy="0 0 0"/>
  </joint>
  <link name='floatie_2.0a_on_link_3_r'>
    <!-- Add two floatie 2.0s on Right Link 3. -->
    <inertial>
      <mass value="0.065"/>
    </inertial>
    <visual name='floatie_2.0a_on_link_3_r_visual'>
      <origin xyz="0 0 0" rpy="0 0 0"/>
      <geometry>
        <cylinder length="0.055" radius="0.09"/>
      </geometry>
    </visual>
    <collision name='floatie_2.0a_on_link_3_r_collision'>
      <origin xyz="0 0 0" rpy="0 0 0"/>
      <geometry>
        <cylinder length="0.055" radius="0.09"/>
      </geometry>
      <drake:proximity_properties>
        <drake:mesh_resolution_hint value="0.04"/>
        <drake:compliant_hydroelastic/>
        <drake:hydroelastic_modulus value="1e6"/>
        <drake:hunt_crossley_dissipation value="5"/>
        <!-- Arbitrary guess at bubble friction properties -->
        <drake:mu_static value="0.8"/>
      </drake:proximity_properties>
    </collision>
  </link>
  <joint name='j2s7s300_link_3_r_floatie_2.0b_on_link_3_r' type='fixed'>
    <parent link='j2s7s300_link_3_r'/>
    <child link='floatie_2.0b_on_link_3_r'/>
    <origin xyz="0 0 -0.11" rpy="0 0 0"/>
  </joint>
  <link name='floatie_2.0b_on_link_3_r'>
    <inertial>
      <mass value="0.065"/>
    </inertial>
    <visual name='floatie_2.0b_on_link_3_r_visual'>
      <origin xyz="0 0 0" rpy="0 0 0"/>
      <geometry>
        <cylinder length="0.055" radius="0.09"/>
      </geometry>
    </visual>
    <collision name='floatie_2.0b_on_link_3_r_collision'>
      <origin xyz="0 0 0" rpy="0 0 0"/>
      <geometry>
        <cylinder length="0.055" radius="0.09"/>
      </geometry>
      <drake:proximity_properties>
        <drake:mesh_resolution_hint value="0.04"/>
        <drake:compliant_hydroelastic/>
        <drake:hydroelastic_modulus value="1e6"/>
        <drake:hunt_crossley_dissipation value="5"/>
        <!-- Arbitrary guess at bubble friction properties -->
        <drake:mu_static value="0.8"/>
      </drake:proximity_properties>
    </collision>
  </link>
  <joint name="j2s7s300_joint_3_r" type="revolute">
    <parent link="j2s7s300_link_2_r"/>
    <child link="j2s7s300_link_3_r"/>
    <axis xyz="0 0 1"/>
    <limit effort="100" lower="0.18" upper="6.10" velocity="0.63"/>
    <origin rpy="-1.57079632679 0 0" xyz="0 -0.205 0"/>
    <dynamics damping="18.0" friction="0.0"/>
  </joint>
  <transmission name="j2s7s300_joint_3_r_trans">
    <type>transmission_interface/SimpleTransmission</type>
    <joint name="j2s7s300_joint_3_r">
      <hardwareInterface>EffortJointInterface</hardwareInterface>
    </joint>
    <actuator name="j2s7s300_joint_3_r_actuator">
      <hardwareInterface>EffortJointInterface</hardwareInterface>
    </actuator>
  </transmission>
  <link name="sensor_cover_2_r">
    <visual>
      <geometry>
        <sphere radius="0.045"/>
      </geometry>
      <material>
        <color rgba="0.812 0.039 0.039 1"/>
      </material>
    </visual>
    <inertial>
      <mass value="0.190"/>
      <origin xyz="0 0 0"/>
      <inertia ixx="0.000154" ixy="0" ixz="0" iyy="0.000154" iyz="0" izz="0.000154"/>
    </inertial>
  </link>
  <joint name='sensor_cover_2_r_on_link_4_r' type='fixed'>
    <parent link='j2s7s300_link_4_r'/>
    <child link='sensor_cover_2_r'/>
    <origin xyz="0 0.01 -0.05" rpy="0 0 0"/>
  </joint>
  <link name="j2s7s300_link_4_r">
    <visual>
      <geometry>
        <mesh filename="meshes/forearm.obj"/>
      </geometry>
      <material>
        <color rgba="0.812 0.039 0.039 1"/>
      </material>
    </visual>
    <visual>
      <geometry>
        <mesh filename="meshes/ring_small.obj"/>
      </geometry>
      <material>
        <color rgba="0.627451 0.627451 0.627451 1"/>
      </material>
    </visual>
    <collision>
      <geometry>
        <mesh filename="meshes/forearm.obj"/>
      </geometry>
    </collision>
    <inertial>
      <mass value="0.625"/>
      <origin xyz="0 0.119 -0.0086"/>
      <inertia ixx="0.00142022431908" ixy="0" ixz="0" iyy="0.000304335" iyz="0" izz="0.00142022431908"/>
    </inertial>
  </link>
  <joint name='j2s7s300_link_4_r_floatie_2.0a_on_link_4_r' type='fixed'>
    <parent link='j2s7s300_link_4_r'/>
    <child link='floatie_2.0a_on_link_4_r'/>
    <origin xyz="0 0.085 -0.01" rpy="1.6 0 0"/>
  </joint>
  <link name='floatie_2.0a_on_link_4_r'>
    <!-- Add two floatie 2.0s on Right Link 4. -->
    <inertial>
      <mass value="0.065"/>
    </inertial>
    <visual name='floatie_2.0a_on_link_4_r_visual'>
      <origin xyz="0 0 0" rpy="0 0 0"/>
      <geometry>
        <cylinder length="0.055" radius="0.09"/>
      </geometry>
    </visual>
    <collision name='floatie_2.0a_on_link_4_r_collision'>
      <origin xyz="0 0 0" rpy="0 0 0"/>
      <geometry>
        <cylinder length="0.055" radius="0.09"/>
      </geometry>
      <drake:proximity_properties>
        <drake:mesh_resolution_hint value="0.04"/>
        <drake:compliant_hydroelastic/>
        <drake:hydroelastic_modulus value="1e6"/>
        <drake:hunt_crossley_dissipation value="5"/>
        <!-- Arbitrary guess at bubble friction properties -->
        <drake:mu_static value="0.8"/>
      </drake:proximity_properties>
    </collision>
  </link>
  <joint name='j2s7s300_link_4_r_floatie_2.0b_on_link_4_r' type='fixed'>
    <parent link='j2s7s300_link_4_r'/>
    <child link='floatie_2.0b_on_link_4_r'/>
    <origin xyz="0 0.16 -0.01" rpy="1.6 0 0"/>
  </joint>
  <link name='floatie_2.0b_on_link_4_r'>
    <inertial>
      <mass value="0.065"/>
    </inertial>
    <visual name='floatie_2.0b_on_link_4_r_visual'>
      <origin xyz="0 0 0" rpy="0 0 0"/>
      <geometry>
        <cylinder length="0.055" radius="0.09"/>
      </geometry>
    </visual>
    <collision name='floatie_2.0b_on_link_4_r_collision'>
      <origin xyz="0 0 0" rpy="0 0 0"/>
      <geometry>
        <cylinder length="0.055" radius="0.09"/>
      </geometry>
      <drake:proximity_properties>
        <drake:mesh_resolution_hint value="0.04"/>
        <drake:compliant_hydroelastic/>
        <drake:hydroelastic_modulus value="1e6"/>
        <drake:hunt_crossley_dissipation value="5"/>
        <!-- Arbitrary guess at bubble friction properties -->
        <drake:mu_static value="0.8"/>
      </drake:proximity_properties>
    </collision>
  </link>
  <joint name="j2s7s300_joint_4_r" type="revolute">
    <parent link="j2s7s300_link_3_r"/>
    <child link="j2s7s300_link_4_r"/>
    <axis xyz="0 0 1"/>
    <limit effort="100" lower="0.523598775598" upper="5.75958653158" velocity="0.63"/>
    <origin rpy="1.57079632679 0 3.14159265359" xyz="0 0 -0.205"/>
    <dynamics damping="18.0" friction="0.0"/>
  </joint>
  <transmission name="j2s7s300_joint_4_r_trans">
    <type>transmission_interface/SimpleTransmission</type>
    <joint name="j2s7s300_joint_4_r">
      <hardwareInterface>EffortJointInterface</hardwareInterface>
    </joint>
    <actuator name="j2s7s300_joint_4_r_actuator">
      <hardwareInterface>EffortJointInterface</hardwareInterface>
    </actuator>
  </transmission>
  <link name="j2s7s300_link_5_r">
    <visual>
      <origin xyz="0 0 0.075"/>
      <geometry>
        <cylinder length="0.18" radius="0.085"/>
      </geometry>
      <material>
        <color rgba="0.812 0.039 0.039 1"/>
      </material>
    </visual>
    <visual>
      <geometry>
        <mesh filename="meshes/wrist_spherical_1.obj"/>
      </geometry>
      <material>
        <color rgba="0.812 0.039 0.039 1"/>
      </material>
    </visual>
    <visual>
      <geometry>
        <mesh filename="meshes/ring_small.obj"/>
      </geometry>
      <material>
        <color rgba="0.627451 0.627451 0.627451 1"/>
      </material>
    </visual>
    <collision>
      <geometry>
        <mesh filename="meshes/wrist_spherical_1.obj"/>
      </geometry>
    </collision>
    <inertial>
      <mass value="0.485"/>
      <origin xyz="0 0.0028848942 -0.063"/>
      <inertia ixx="0.0004321316048" ixy="0" ixz="0" iyy="0.0004321316048" iyz="0" izz="9.26e-05"/>
    </inertial>
  </link>
  <joint name="j2s7s300_joint_5_r" type="revolute">
    <parent link="j2s7s300_link_4_r"/>
    <child link="j2s7s300_link_5_r"/>
    <axis xyz="0 0 1"/>
    <limit effort="80" lower="0.18" upper="6.10" velocity="0.85"/>
    <origin rpy="-1.57079632679 0 3.14159265359" xyz="0 0.2073 -0.0114"/>
    <dynamics damping="3.0" friction="0.0"/>
  </joint>
  <transmission name="j2s7s300_joint_5_r_trans">
    <type>transmission_interface/SimpleTransmission</type>
    <joint name="j2s7s300_joint_5_r">
      <hardwareInterface>EffortJointInterface</hardwareInterface>
    </joint>
    <actuator name="j2s7s300_joint_5_r_actuator">
      <hardwareInterface>EffortJointInterface</hardwareInterface>
    </actuator>
  </transmission>
  <link name="j2s7s300_link_6_r">
    <visual>
      <geometry>
        <mesh filename="meshes/wrist_spherical_2.obj"/>
      </geometry>
      <material>
        <color rgba="0.812 0.039 0.039 1"/>
      </material>
    </visual>
    <visual>
      <geometry>
        <mesh filename="meshes/ring_small.obj"/>
      </geometry>
      <material>
        <color rgba="0.627451 0.627451 0.627451 1"/>
      </material>
    </visual>
    <collision>
      <geometry>
        <mesh filename="meshes/wrist_spherical_2.obj"/>
      </geometry>
    </collision>
    <inertial>
      <mass value="0.486"/>
      <origin xyz="0 0.063 -0.0028562765"/>
      <inertia ixx="0.0004321316048" ixy="0" ixz="0" iyy="9.26e-05" iyz="0" izz="0.0004321316048"/>
    </inertial>
  </link>
  <joint name="j2s7s300_joint_floatie_1.0_partA_r" type="fixed">
    <parent link="j2s7s300_link_6_r"/>
    <child link="floatie_1.0_on_link_6_r"/>
    <origin rpy="1.55 0 0" xyz="0 0.055 0.005"/>
  </joint>
  <link name="floatie_1.0_on_link_6_r">
    <inertial>
      <mass value="0.025"/>
    </inertial>
    <visual name='floatie_1.0_on_link_6_r_visual'>
      <origin rpy="0 0 0" xyz="0 0 0"/>
      <geometry>
        <cylinder length="0.045" radius="0.0775"/>
      </geometry>
      <material>
        <color rgba="0.812 0.039 0.039 1"/>
      </material>
    </visual>
    <collision name='floatie_1.0_on_link_6_r_visual'>
      <origin rpy="0 0 0" xyz="0 0 0"/>
      <geometry>
        <cylinder length="0.045" radius="0.0775"/>
      </geometry>
      <drake:proximity_properties>
        <drake:mesh_resolution_hint value="0.04"/>
        <drake:compliant_hydroelastic/>
        <drake:hydroelastic_modulus value="1e6"/>
        <drake:hunt_crossley_dissipation value="5"/>
        <!-- Arbitrary guess at bubble friction properties -->
        <drake:mu_static value="0.8"/>
      </drake:proximity_properties>
    </collision>
    <visual name='floatie_1.0_on_link_6_r_visual_2'>
      <origin rpy="0 0 0" xyz="0 0 0.06"/>
      <geometry>
        <sphere radius="0.0775"/>
      </geometry>
    </visual>
    <collision name='floatie_1.0_on_link_6_r_collision_2'>
      <origin rpy="0 0 0" xyz="0 0 0.045"/>
      <geometry>
        <sphere radius="0.0775"/>
      </geometry>
      <drake:proximity_properties>
        <drake:mesh_resolution_hint value="0.04"/>
        <drake:compliant_hydroelastic/>
        <drake:hydroelastic_modulus value="1e6"/>
        <drake:hunt_crossley_dissipation value="5"/>
        <!-- Arbitrary guess at bubble friction properties -->
        <drake:mu_static value="0.8"/>
      </drake:proximity_properties>
    </collision>
  </link>
 <joint name="j2s7s300_joint_floatie_1.0_partB_r" type="fixed">
    <parent link="j2s7s300_link_5_r"/>
    <child link="floatie_1.0_on_link_5_r"/>
    <origin rpy="0 0 0" xyz="0 0.005 -0.04"/>
  </joint>
 <link name="floatie_1.0_on_link_5_r">
    <inertial>
      <mass value="0.025"/>
    </inertial>
    <visual name='floatie_1.0_on_link_5_r_visual'>
      <origin rpy="0 0 0" xyz="0 0 0"/>
      <geometry>
        <cylinder length="0.045" radius="0.0775"/>
      </geometry>
      <material>
        <color rgba="0.812 0.039 0.039 1"/>
      </material>
    </visual>
    <collision name='floatie_1.0_on_link_5_r_collision'>
      <origin rpy="0 0 0" xyz="0 0 0"/>
      <geometry>
        <cylinder length="0.045" radius="0.0775"/>
      </geometry>
      <drake:proximity_properties>
        <drake:mesh_resolution_hint value="0.04"/>
        <drake:compliant_hydroelastic/>
        <drake:hydroelastic_modulus value="1e6"/>
        <drake:hunt_crossley_dissipation value="5"/>
        <!-- Arbitrary guess at bubble friction properties -->
        <drake:mu_static value="0.8"/>
      </drake:proximity_properties>
    </collision>
  </link>
  <joint name="j2s7s300_joint_6_r" type="revolute">
    <parent link="j2s7s300_link_5_r"/>
    <child link="j2s7s300_link_6_r"/>
    <axis xyz="0 0 1"/>
    <limit effort="80" lower="0.523598775598" upper="5.75958653158" velocity="0.85"/>
    <origin rpy="1.57079632679 0 3.14159265359" xyz="0 0 -0.10375"/>
    <dynamics damping="3.0" friction="0.0"/>
  </joint>
  <transmission name="j2s7s300_joint_6_r_trans">
    <type>transmission_interface/SimpleTransmission</type>
    <joint name="j2s7s300_joint_6_r">
      <hardwareInterface>EffortJointInterface</hardwareInterface>
    </joint>
    <actuator name="j2s7s300_joint_6_r_actuator">
      <hardwareInterface>EffortJointInterface</hardwareInterface>
    </actuator>
  </transmission>
  <link name="j2s7s300_link_7_r">
    <inertial>
      <mass value="0.01"/>
      <origin xyz="0 0 0"/>
      <inertia ixx="0.00001" ixy="0" ixz="0" iyy="0.00001" iyz="0" izz="0.00001"/>
    </inertial>
  </link>
  <joint name="j2s7s300_joint_7_r" type="revolute">
    <parent link="j2s7s300_link_6_r"/>
    <child link="j2s7s300_link_7_r"/>
    <axis xyz="0 0 1"/>
    <limit effort="80" lower="0.18" upper="6.10" velocity="0.85"/>
    <origin rpy="-1.57079632679 0 3.14159265359" xyz="0 0.10375 0"/>
    <dynamics damping="3.0" friction="0.0"/>
  </joint>
  <transmission name="j2s7s300_joint_7_r_trans">
    <type>transmission_interface/SimpleTransmission</type>
    <joint name="j2s7s300_joint_7_r">
      <hardwareInterface>EffortJointInterface</hardwareInterface>
    </joint>
    <actuator name="j2s7s300_joint_7_r_actuator">
      <hardwareInterface>EffortJointInterface</hardwareInterface>
    </actuator>
  </transmission>
  <link name="paw_link_r">
    <!-- Add the paw mount only for visual. -->
    <visual>
      <geometry>
        <mesh filename="meshes/MA-027-AY-0006_mount.obj"/>
      </geometry>
      <material>
        <color rgba="0.1788232 0.1788232 0.1788232 1"/>
      </material>
    </visual>
    <!-- Add the paw frame for visual and collision. -->
    <visual>
      <geometry>
        <mesh filename="meshes/MA-027-AY-0006_pawframe.obj"/>
      </geometry>
      <material>
        <color rgba="0.1788232 0.1788232 0.1788232 1"/>
      </material>
    </visual>
    <collision>
      <origin xyz="-0.03 0.06 0" rpy="1.57 0 0.9"/>
      <geometry>
        <cylinder length="0.055" radius="0.025"/>
      </geometry>
    </collision>
    <collision>
      <geometry>
        <mesh filename="meshes/MA-027-AY-0006_bubble35mm_coarse_250faces.vtk"/>
      </geometry>
      <drake:proximity_properties>
        <drake:mesh_resolution_hint value="0.04"/>
        <drake:compliant_hydroelastic/>
        <drake:hydroelastic_modulus value="1e6"/>
        <drake:hunt_crossley_dissipation value="5"/>
        <!-- Arbitrary guess at bubble friction properties -->
        <drake:mu_static value="0.9"/>
        <drake:mu_dynamic value="0.9"/>
      </drake:proximity_properties>
    </collision>
    <!-- Add the bubble mesh for visual and collision. -->
    <visual>
      <geometry>
        <mesh filename="meshes/MA-027-AY-0006_bubble35mm.obj"/>
      </geometry>
    </visual>
    <!-- Inertial values are approximate and calculated for a
         cylinder of radius 35mm, height 110mm and mass 270gms -->
    <inertial>
      <mass value="0.27"/>
      <origin xyz="-0.05 0.07 0" rpy="1.5707 0 0.85"/>
      <inertia ixx="0.000355" ixy="0" ixz="0" iyy="0.000355" iyz="0" izz="0.000165"/>
    </inertial>
  </link>
  <joint name='paw_joint_r' type='fixed'>
    <parent link='j2s7s300_link_7_r'/>
    <child link='paw_link_r'/>
    <origin rpy="-1.5705 0 2.0944" xyz="0 0 0"/>
  </joint>
  <link name="bubble_center_r">
    <inertial>
      <mass value="0.001"/>
      <origin xyz="0 0 0"/>
      <inertia ixx="0.000001" ixy="0" ixz="0" iyy="0.000001" iyz="0" izz="0.000001"/>
    </inertial>
  </link>
  <joint name='dummy_joint_r' type='fixed'>
    <parent link='paw_link_r'/>
    <child link='bubble_center_r'/>
    <origin rpy="0 0 0" xyz="-0.1295 0.0831 0.0017"/>
  </joint>
</robot>
